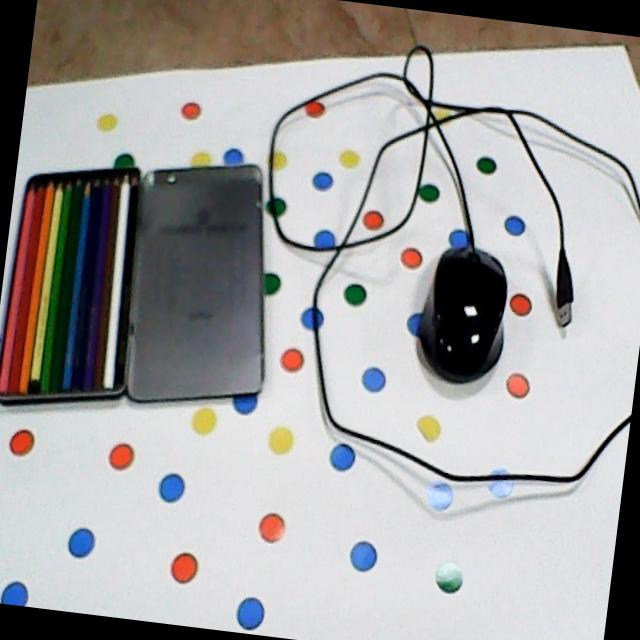color: (0, 162, 146, 409)
mouse: (412, 237, 514, 392)
